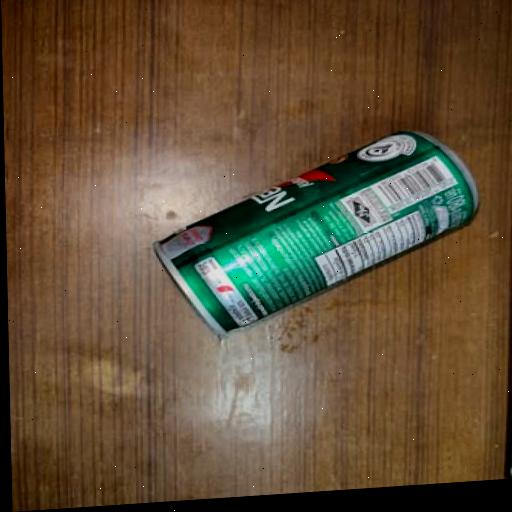canned: (138, 119, 492, 351)
